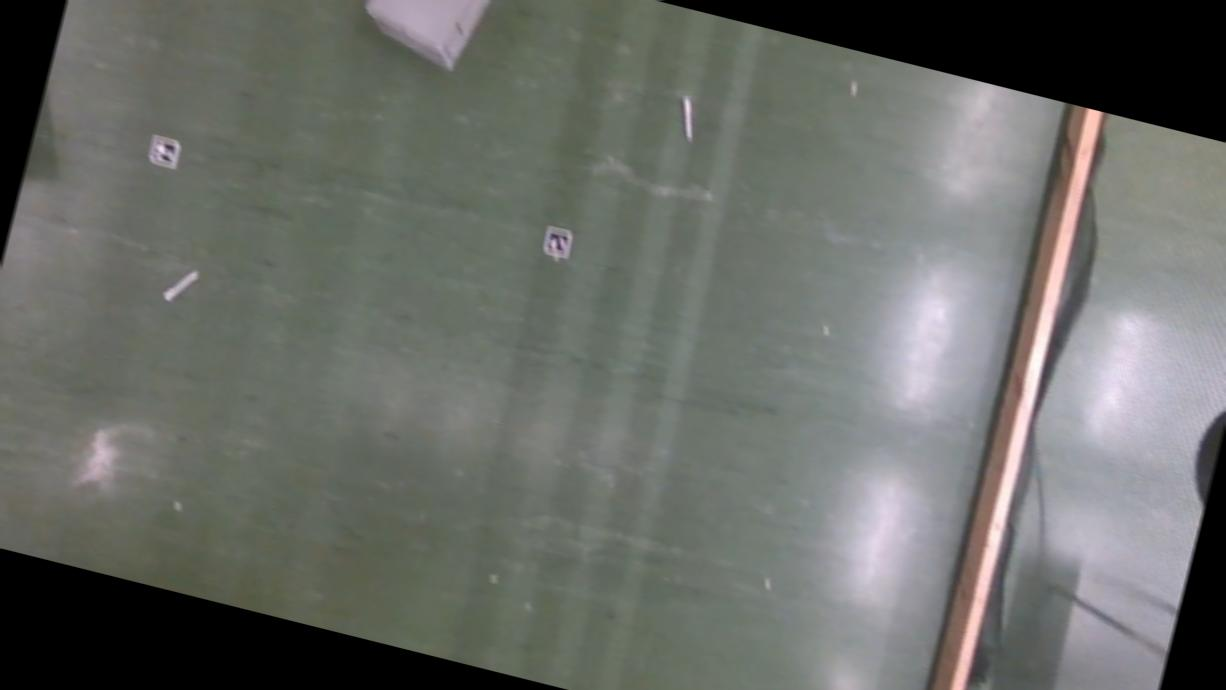probes: (162, 266, 198, 307), (675, 97, 702, 142)
rako: (355, 0, 508, 80)
